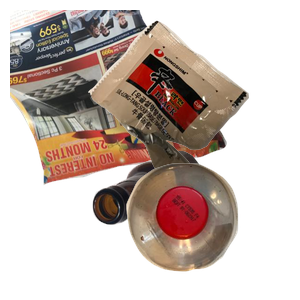glass: (90, 148, 300, 300)
paper: (10, 10, 230, 188)
plastic: (124, 161, 300, 300)
trash: (86, 18, 300, 194)
